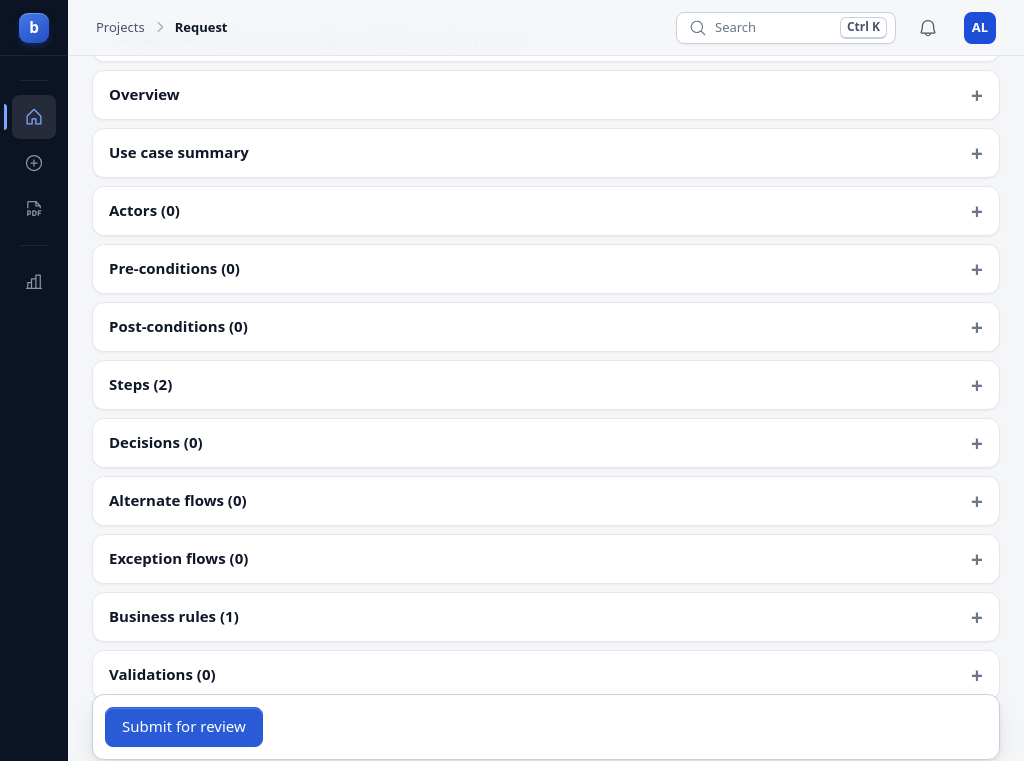
Test: review › edits any field, tells you there is something to save, and saves it as a new version with your note
(page scrolled)
Click the heading "Steps (2)".
click(141, 384)  # box top-left (109, 374), bottom-right (172, 394)
(page scrolled)
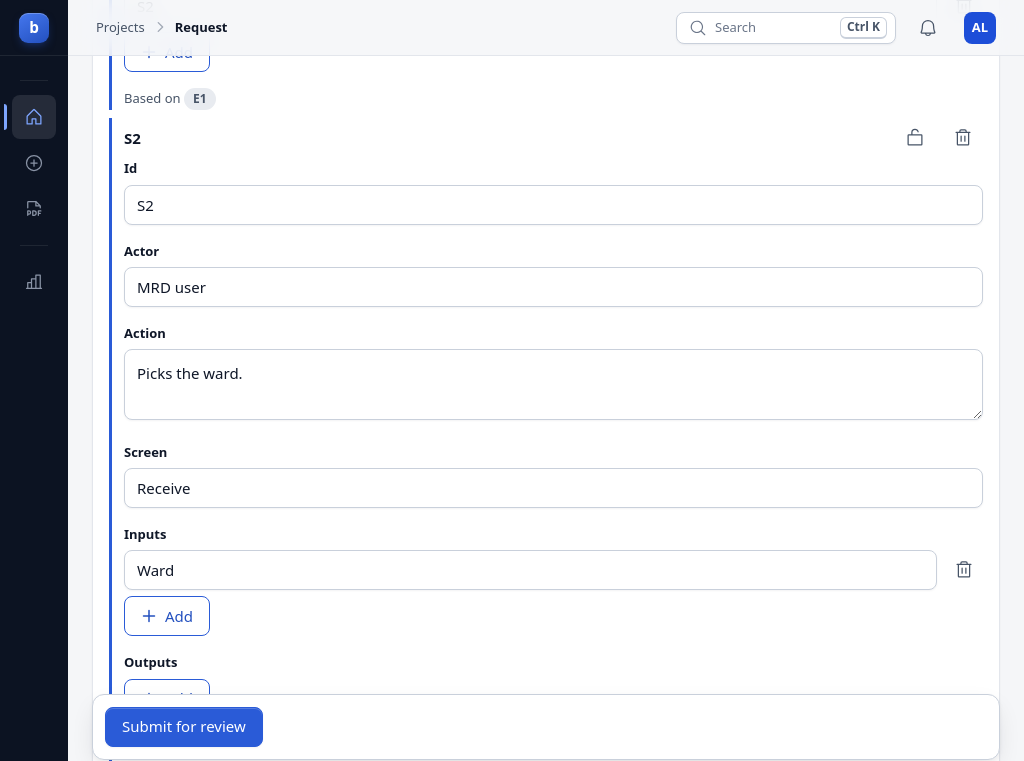
Expected: the button "Save changes" is not shown
Replace the text in the text box labelled "Action" with "System pre-selects the ward." at (554, 384), box top-left (124, 349), bottom-right (983, 420)
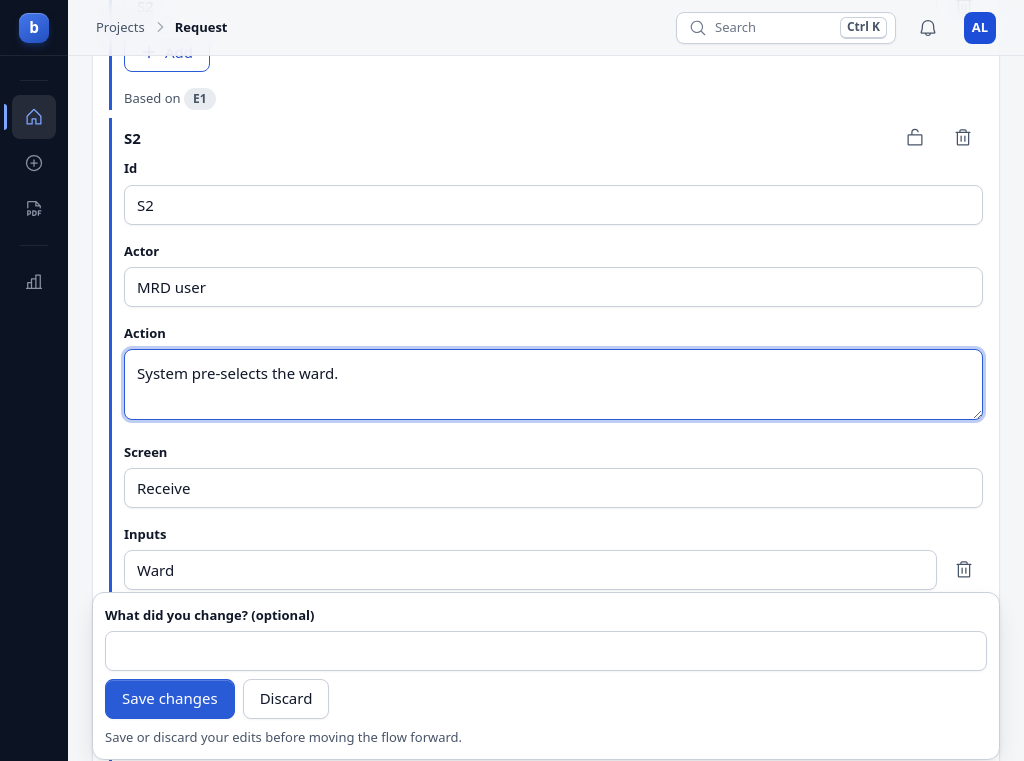
Type "Clarified step 2" into the field labelled "What did you change? (optional)".
click(546, 651); type("Clarified step 2")  # box top-left (105, 631), bottom-right (987, 671)
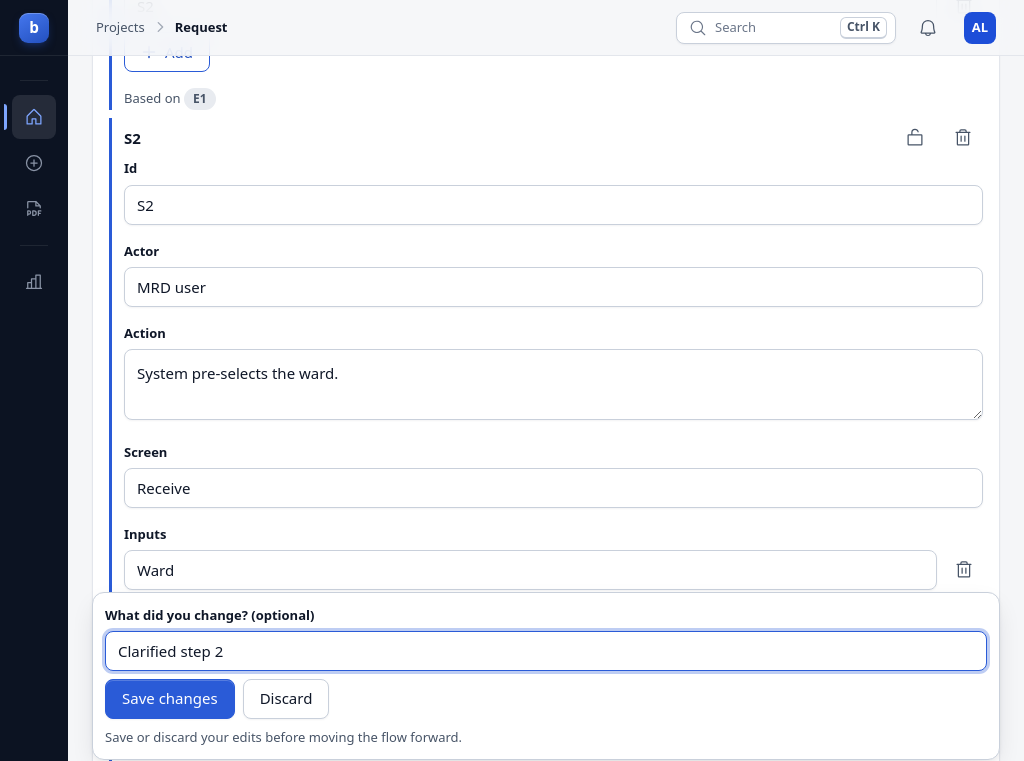
Click the button "Save changes".
click(170, 699)  # box top-left (105, 679), bottom-right (235, 719)
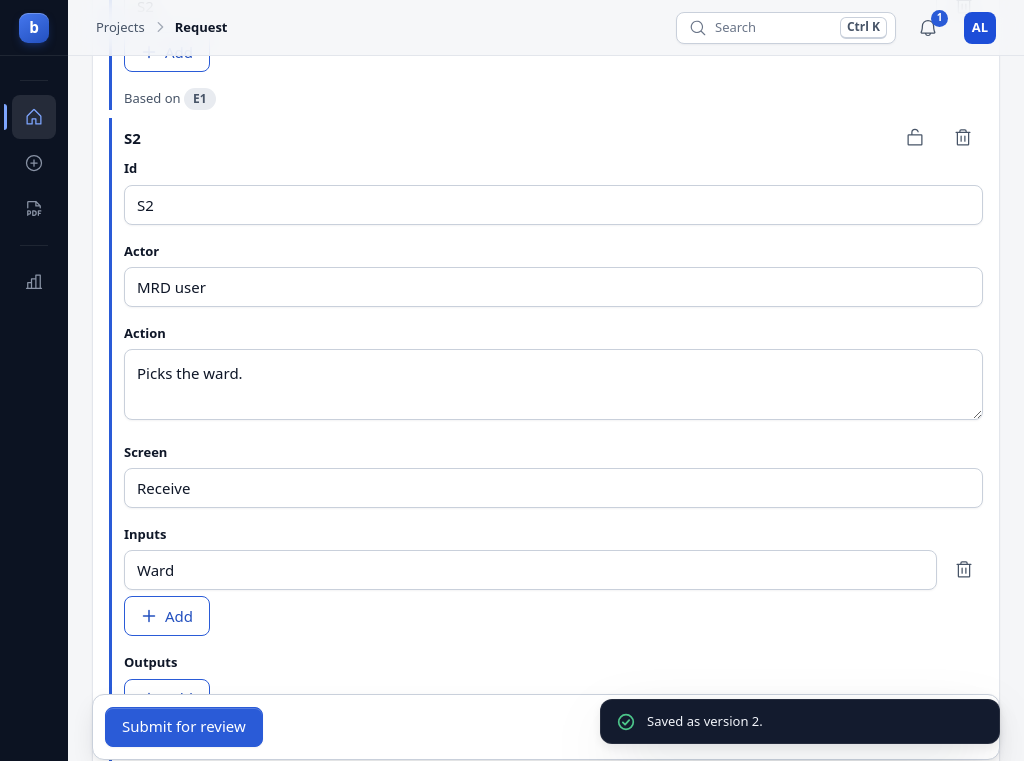
Expected: the text "Saved as version 2." is shown, top-left (647, 712), bottom-right (763, 730)
Expected: the button "Save changes" is gone
